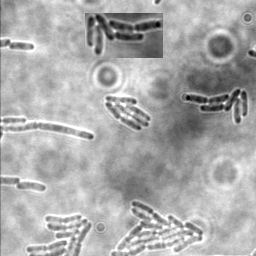Dividing: (1, 123, 95, 142), (8, 41, 35, 52)
Microcolony: (109, 200, 205, 255), (85, 13, 163, 58), (25, 212, 94, 255), (184, 89, 248, 126), (103, 96, 150, 132), (16, 182, 48, 193)
